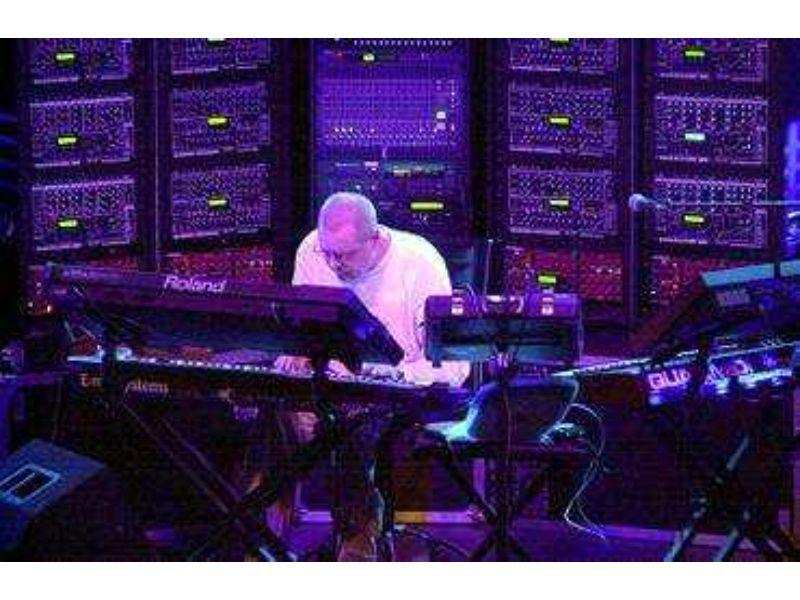synthesizer: (48, 356, 477, 427), (31, 273, 366, 332), (555, 355, 791, 410)
